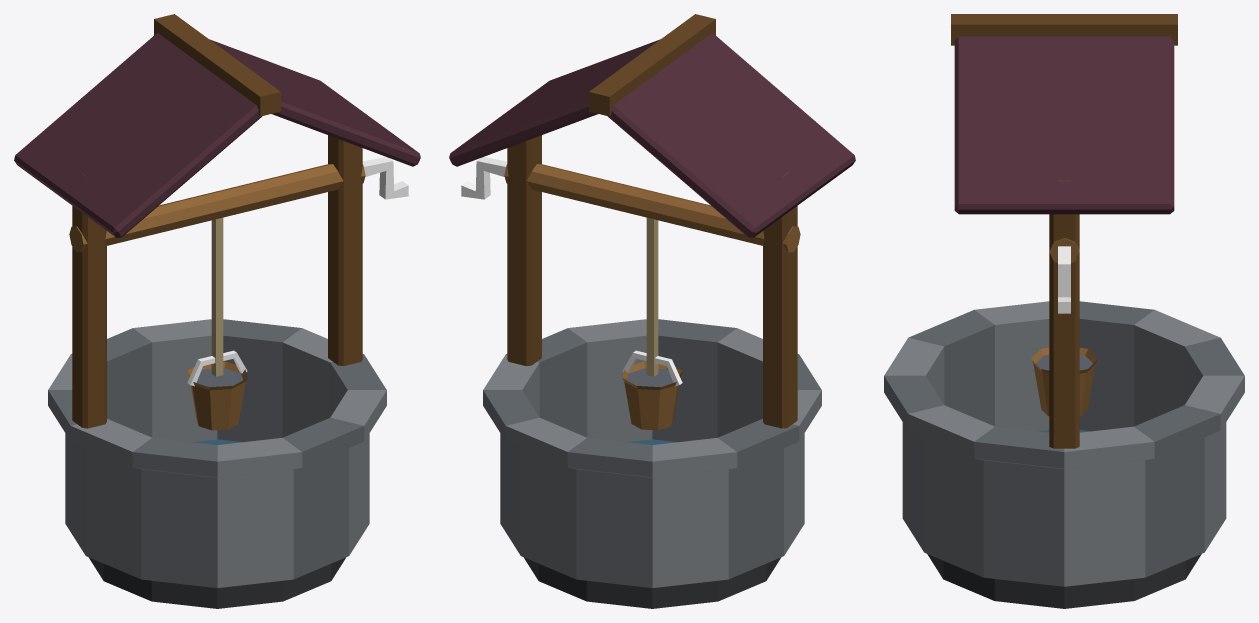
Rendered from well.glb.
3 renders of one model, left to right at view 1: azimuth 30°, elevation 25°; view 2: azimuth 150°, elevation 25°; view 3: azimuth 270°, elevation 25°, orthographic. The views are drawn at different scales.
Parts seen in each view (by area): view 1: Well; view 2: Well; view 3: Well.
Part boxes in pixels (x1,y1,x2,y2): Well: [14, 14, 420, 608]; Well: [449, 14, 855, 608]; Well: [884, 14, 1244, 608].
Bounding box in the file's own units: 1.82 × 2.53 × 1.56.
